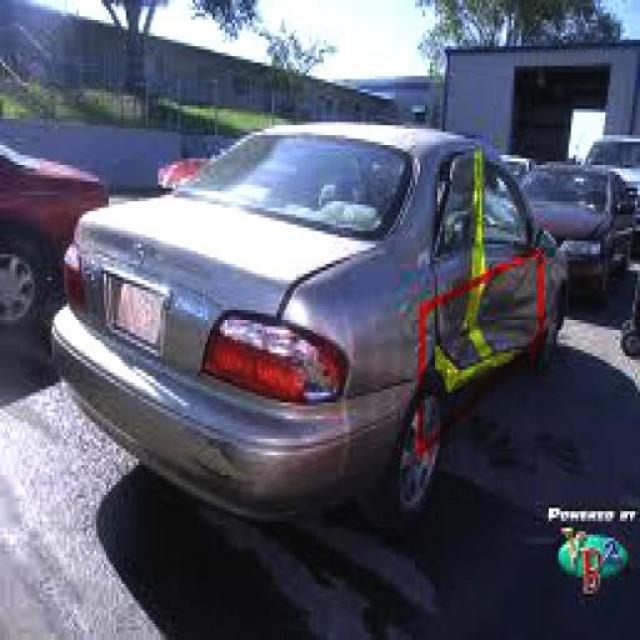car damage: (415, 152, 568, 391)
